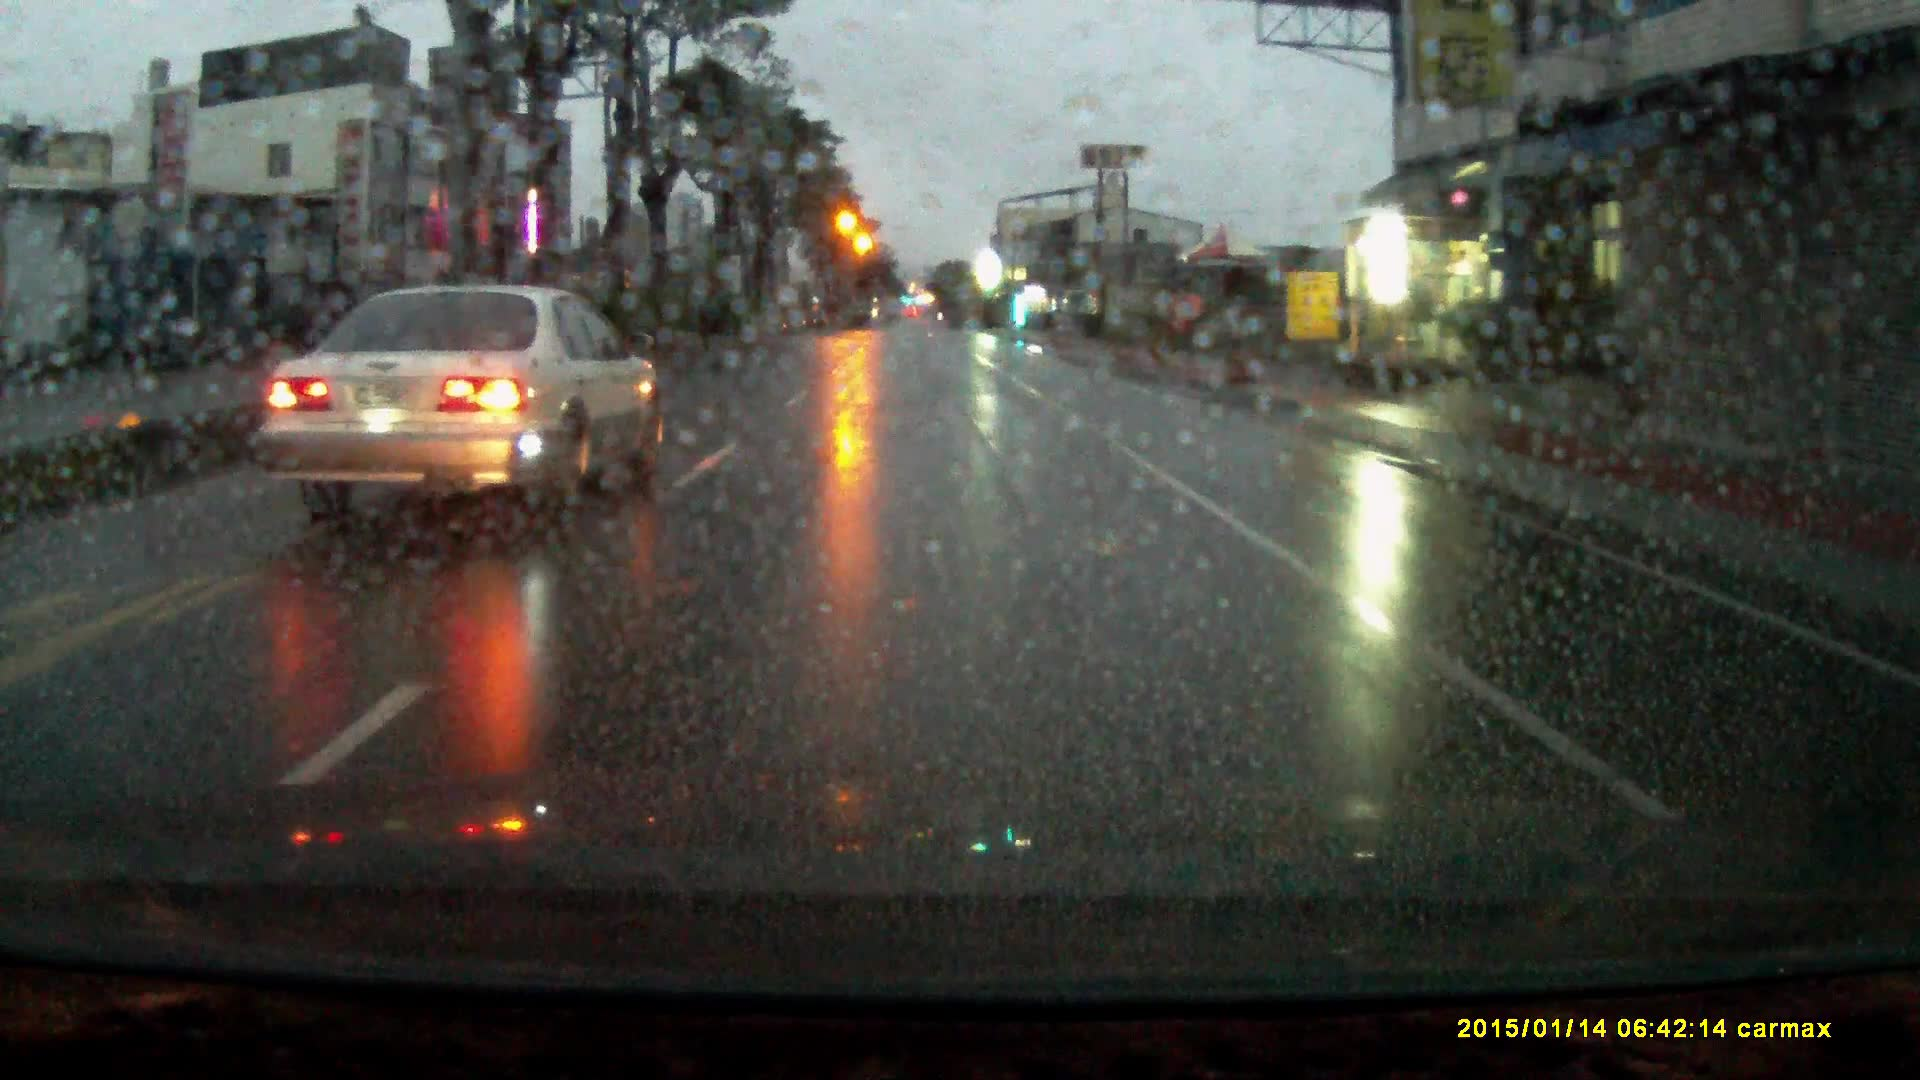vehicle: (253, 289, 667, 524)
